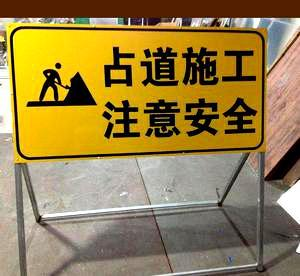sign: (10, 24, 266, 162)
